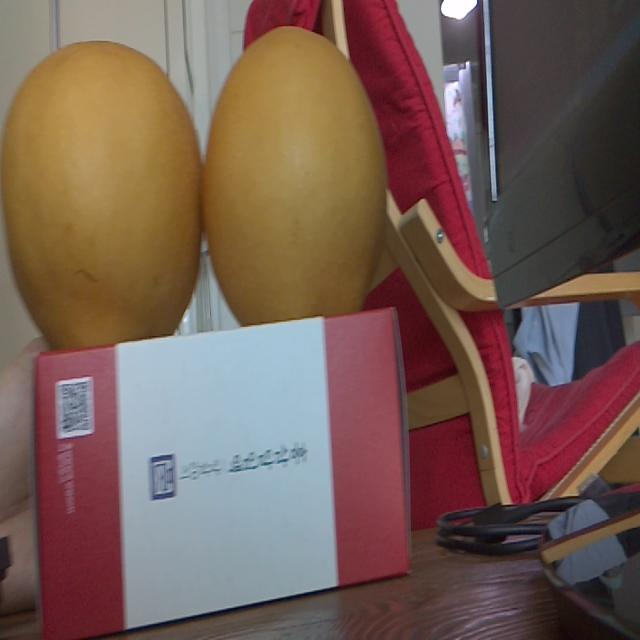pear: (3, 40, 200, 337), (205, 25, 386, 310)
